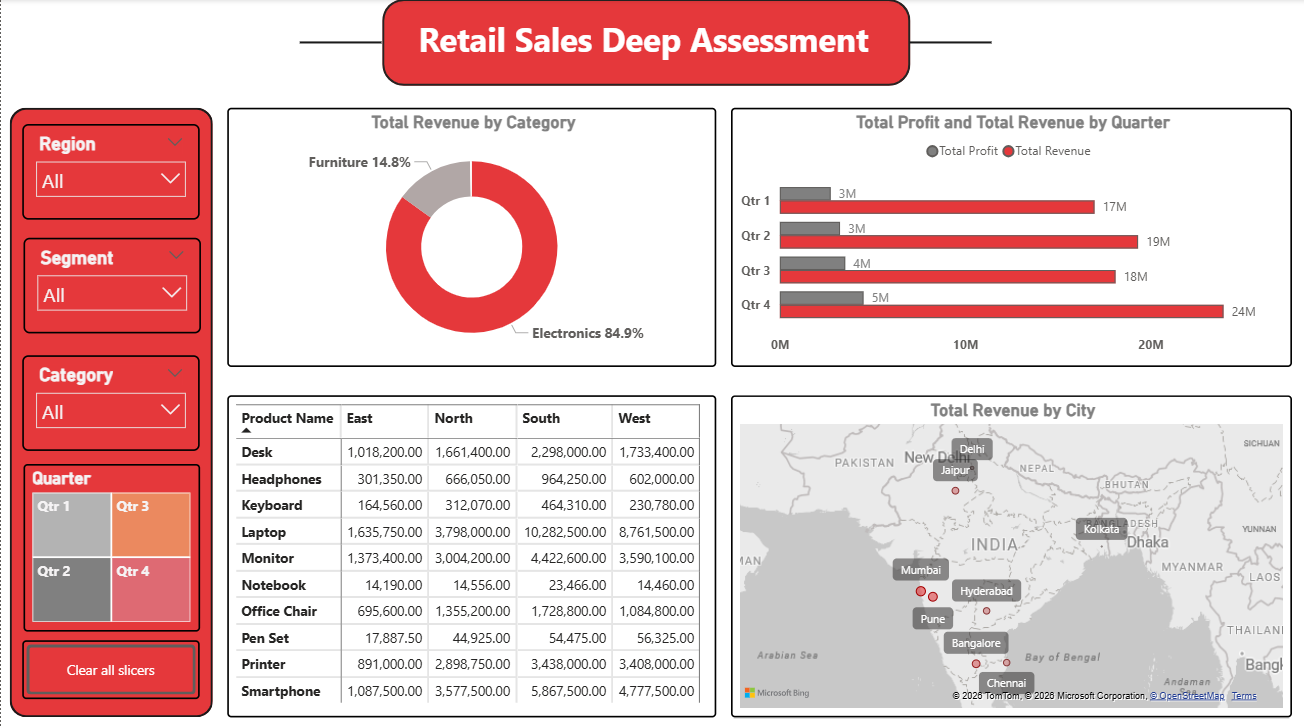

The dashboard page shown, as its layout file describes it:
{"tool":"powerbi","page":{"name":"Deep Assessment","canvas":[1280,720],"ordinal":1},"visuals":[{"type":"shape","box":[372.5,0,516.7,85],"z":0},{"type":"textbox","box":[403.5,12.2,497.7,73.4],"z":1000},{"type":"shape","box":[292.5,0,80,85],"z":2000},{"type":"shape","box":[888.8,0,80,85],"z":3000},{"type":"donutChart","fields":{"Category":["retail_sales_final.category"],"Y":["retail_sales_final.Total Revenue"]},"box":[221.2,106.2,478.8,253.8],"z":4000},{"type":"map","fields":{"Category":["retail_sales_final.city"],"Size":["retail_sales_final.Total Revenue"]},"box":[713.8,387.5,548.8,315],"z":5000},{"type":"pivotTable","fields":{"Rows":["retail_sales_final.product_name"],"Columns":["retail_sales_final.region"],"Values":["retail_sales_final.Total Revenue"]},"box":[221.2,387.5,478.8,315],"z":6000},{"type":"clusteredBarChart","fields":{"Category":["retail_sales_final.order_date.Variation.Date Hierarchy.Quarter"],"Y":["retail_sales_final.Total Profit","retail_sales_final.Total Revenue"]},"box":[713.8,106.2,548.8,253.8],"z":7000},{"type":"shape","box":[8.8,106.2,198.8,596.2],"z":8000},{"type":"slicer","fields":{"Values":["retail_sales_final.region"]},"box":[21.2,122.5,173.8,93.8],"z":9000},{"type":"slicer","fields":{"Values":["retail_sales_final.customer_segment"]},"box":[22.5,233.8,173.8,93.8],"z":10000},{"type":"slicer","fields":{"Values":["retail_sales_final.category"]},"box":[21.2,348.8,173.8,93.8],"z":11000},{"type":"treemap","title":"Quarter","fields":{"Group":["retail_sales_final.order_date.Variation.Date Hierarchy.Quarter"],"Values":["Count(retail_sales_final.order_date.Variation.Date Hierarchy.Quarter)"]},"box":[22.5,455,172.5,163.8],"z":12000},{"type":"actionButton","box":[21.2,627.5,173.8,57.5],"z":13000}]}

Visuals, with their boxes in screenshot pixels (x1, y1, x2, y2), scaled from the page's 1280x720 canvas onto the 1304x728 screenshot:
shape: 379 0 906 86
textbox: 411 12 918 87
shape: 298 0 379 86
shape: 905 0 987 86
donutChart - retail_sales_final.category x retail_sales_final.Total Revenue: 225 107 713 364
map - retail_sales_final.city x retail_sales_final.Total Revenue: 727 392 1286 710
pivotTable - retail_sales_final.product_name x retail_sales_final.region: 225 392 713 710
clusteredBarChart - retail_sales_final.order_date.Variation.Date Hierarchy.Quarter x retail_sales_final.Total Profit: 727 107 1286 364
shape: 9 107 211 710
slicer - retail_sales_final.region: 22 124 199 219
slicer - retail_sales_final.customer_segment: 23 236 200 331
slicer - retail_sales_final.category: 22 353 199 448
"Quarter" treemap: 23 460 199 626
actionButton: 22 634 199 693
